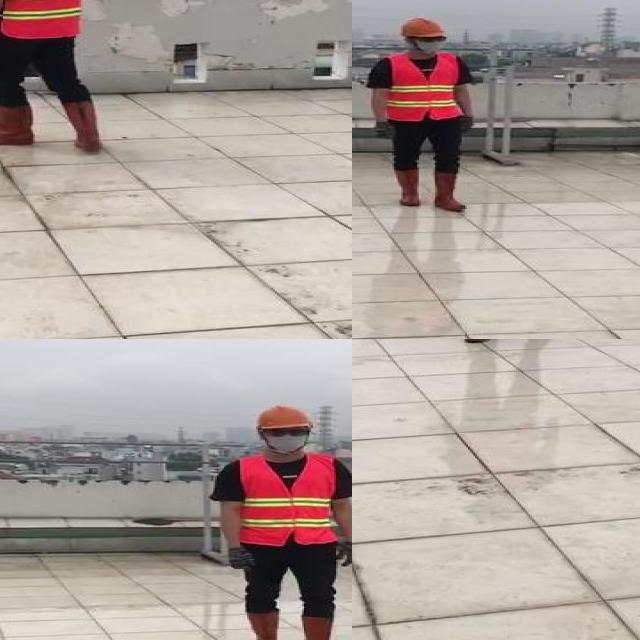boots: (60, 101, 102, 150), (0, 104, 38, 144), (430, 170, 467, 211), (302, 613, 348, 640), (390, 168, 420, 207), (245, 610, 284, 640)
face_mask: (262, 426, 310, 452), (414, 34, 446, 52)
glasses: (263, 426, 318, 440), (416, 33, 450, 44)
hand_glove: (224, 545, 254, 572), (458, 114, 478, 135), (337, 542, 352, 569), (375, 121, 394, 141)
head_helmet: (252, 404, 316, 431), (398, 17, 448, 38)
person: (206, 402, 352, 640), (365, 16, 491, 212), (0, 0, 122, 158)
vest: (236, 455, 338, 545), (387, 53, 463, 122), (0, 0, 85, 40)
